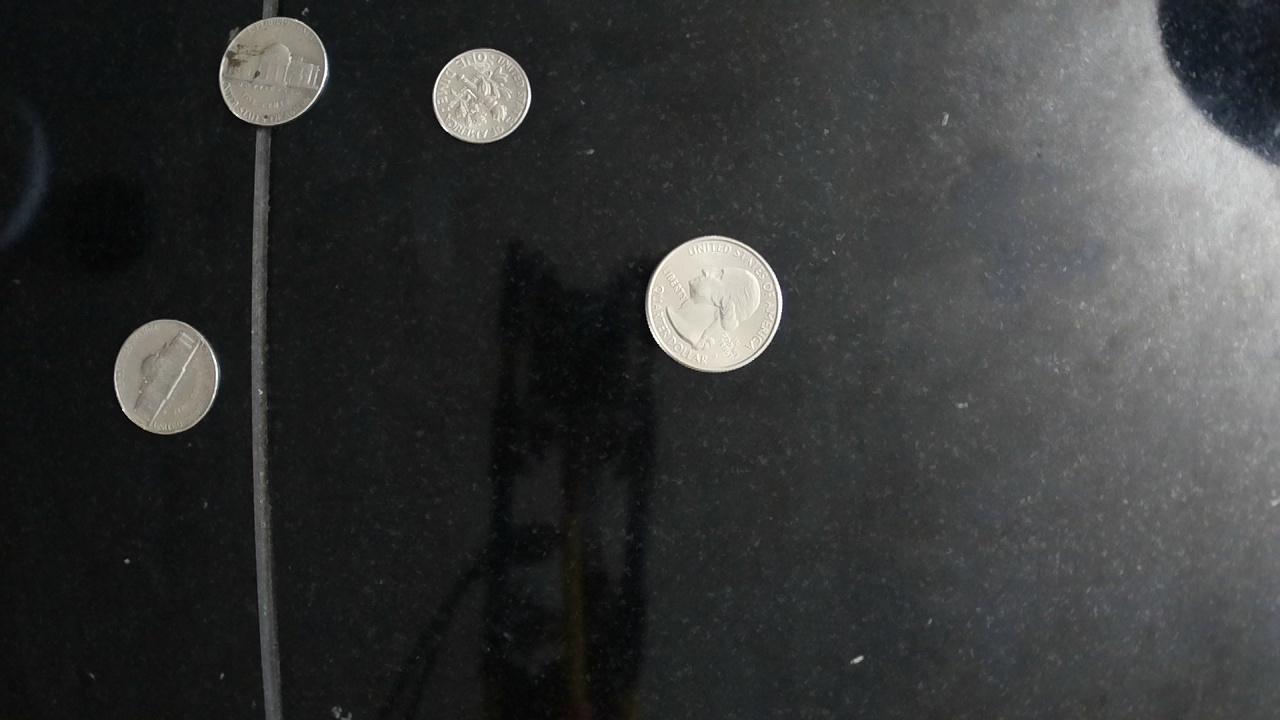dime: (428, 44, 534, 146)
nickel: (211, 10, 337, 132), (106, 314, 228, 438)
quarter: (640, 228, 784, 380)
